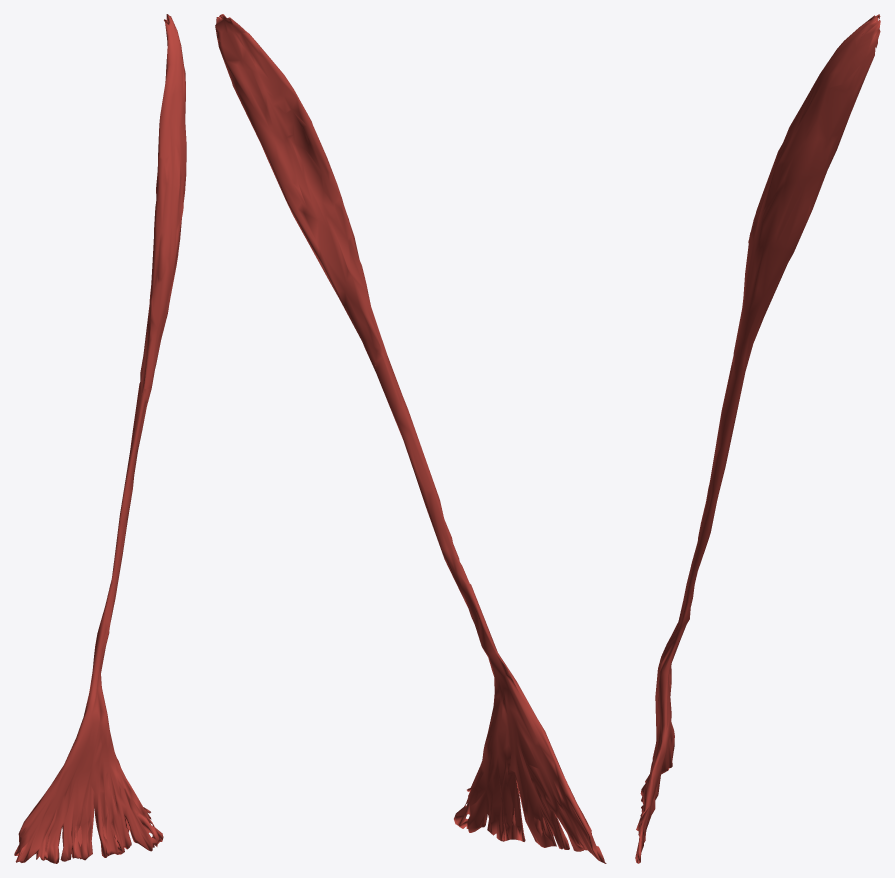
File: musculos-palmaris-longus-muscle-r.glb
3 renders of one model, left to right at view 1: azimuth 30°, elevation 25°; view 2: azimuth 150°, elevation 25°; view 3: azimuth 270°, elevation 25°, orthographic. The views are drawn at different scales.
Visible parts, largest first — view 1: Palmaris longus muscle.r; view 2: Palmaris longus muscle.r; view 3: Palmaris longus muscle.r.
Boxes of the visible parts, left/top/right/bottom form: Palmaris longus muscle.r: left=14, top=14, right=186, bottom=863; Palmaris longus muscle.r: left=215, top=14, right=606, bottom=863; Palmaris longus muscle.r: left=635, top=14, right=880, bottom=863.
Bounding box in the file's own units: 0.1152 × 0.3312 × 0.0803.
